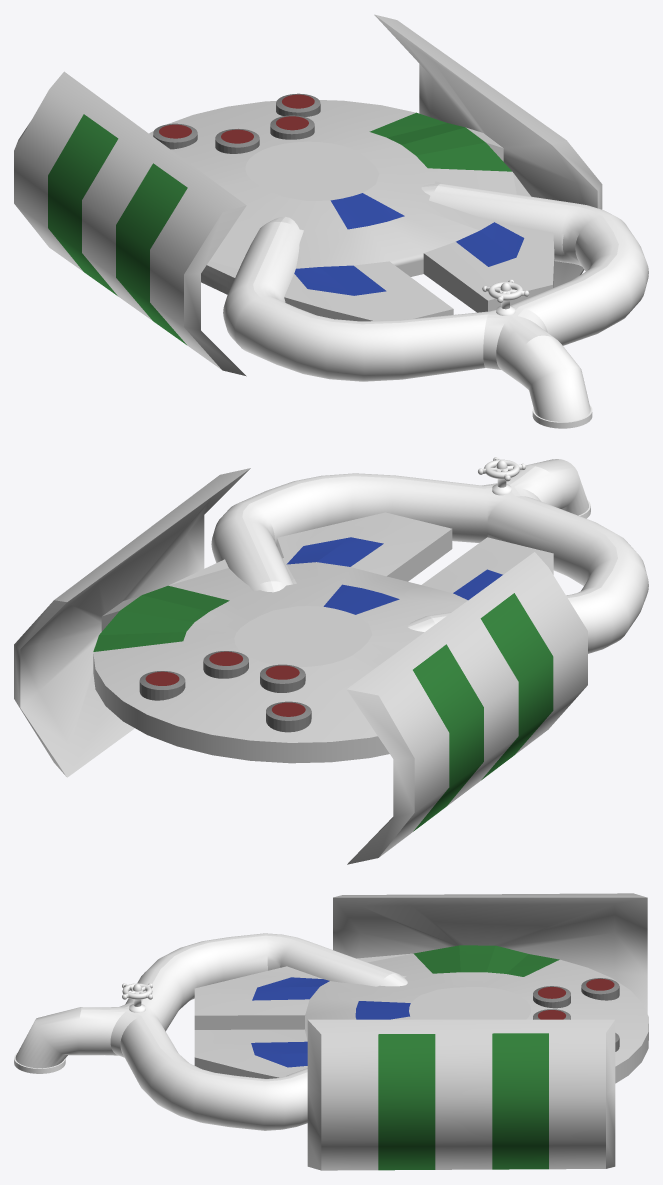
The model's file is spaceship.fbx.
The picture shows the model from 3 angles, top to bottom: view 1: azimuth 30°, elevation 25°; view 2: azimuth 150°, elevation 25°; view 3: azimuth 270°, elevation 25°; orthographic projection. The views are drawn at different scales.
Parts seen in each view (by area): view 1: Cylinder, Cylinder.001; view 2: Cylinder, Cylinder.001; view 3: Cylinder, Cylinder.001.
Boxes of the visible parts, x1,y1,x2,y2 form: Cylinder: [14, 14, 648, 428]; Cylinder.001: [482, 279, 529, 309]; Cylinder: [14, 459, 648, 864]; Cylinder.001: [478, 457, 525, 487]; Cylinder: [14, 893, 648, 1170]; Cylinder.001: [122, 983, 152, 1006].
Size of the model in its own units: 1439 by 577 by 2260.
